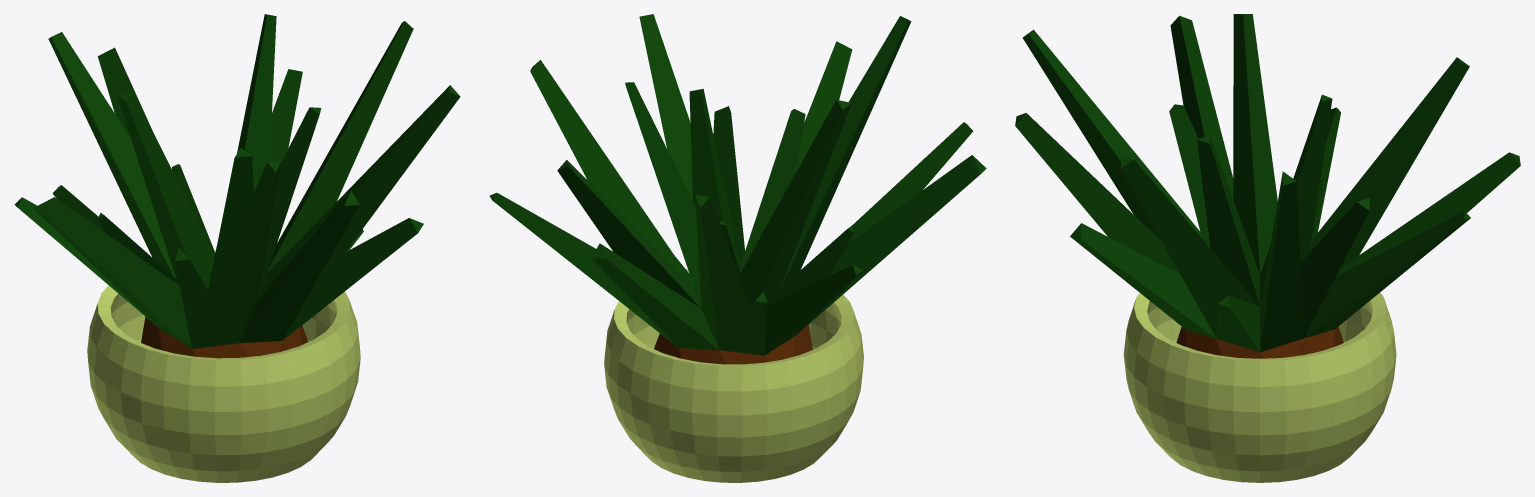
Rendered from CPI441_Fur_Plant.fbx.
3 renders of one model, left to right at view 1: azimuth 30°, elevation 25°; view 2: azimuth 150°, elevation 25°; view 3: azimuth 270°, elevation 25°, orthographic. The views are drawn at different scales.
Visible parts, largest first — view 1: Icosphere; view 2: Icosphere; view 3: Icosphere.
Part boxes in pixels (left/top/right/bottom): Icosphere: left=14, top=14, right=460, bottom=482; Icosphere: left=489, top=14, right=986, bottom=482; Icosphere: left=1015, top=14, right=1520, bottom=482.
Size of the model in its own units: 589 by 509 by 608.
